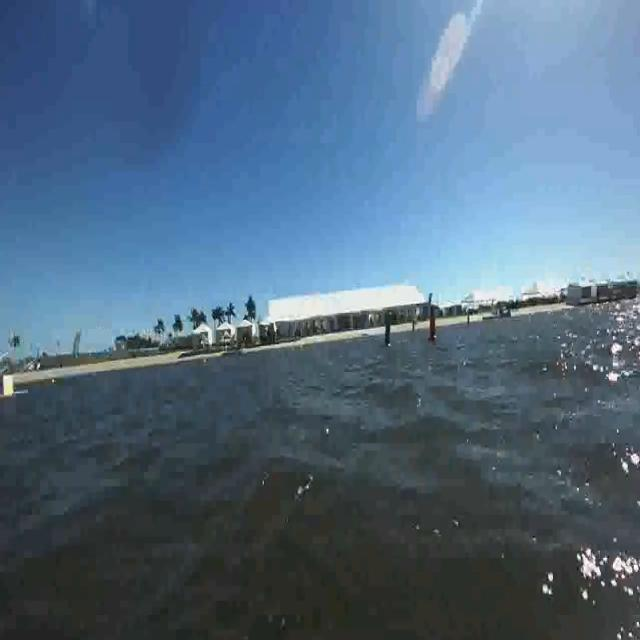green-column-buoy: (383, 312, 394, 347)
red-column-buoy: (426, 308, 438, 342)
